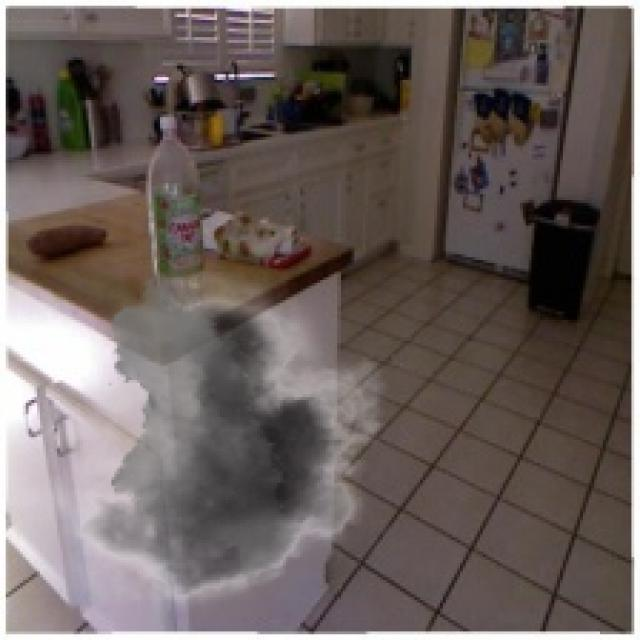Smoke: (6, 271, 403, 626)
